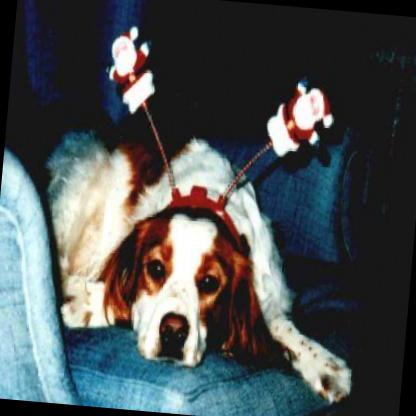Brittany_spaniel: (23, 109, 374, 410)
